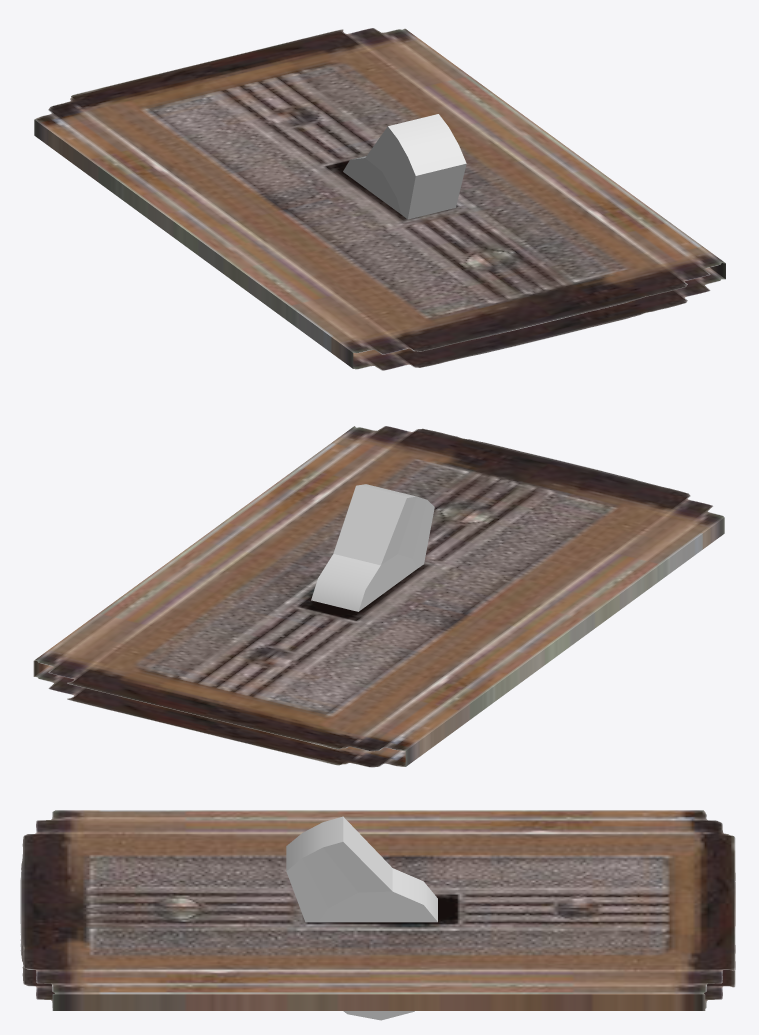
Rendered from Switch.FBX.
The picture shows the model from 3 angles, top to bottom: view 1: azimuth 30°, elevation 25°; view 2: azimuth 150°, elevation 25°; view 3: azimuth 270°, elevation 25°; orthographic projection.
Visible parts, largest first — view 1: Switchbox2, Switch; view 2: Switchbox2, Switch; view 3: Switchbox2, Switch.
Boxes of the visible parts, left/top/right/bottom form: Switchbox2: left=34, top=28, right=725, bottom=370; Switch: left=343, top=114, right=466, bottom=219; Switchbox2: left=33, top=426, right=724, bottom=767; Switch: left=311, top=484, right=434, bottom=611; Switchbox2: left=20, top=810, right=735, bottom=1010; Switch: left=286, top=816, right=437, bottom=1020.
Bounding box in the file's own units: 16.46 × 7.49 × 27.61.
1 material, 1 textured.
